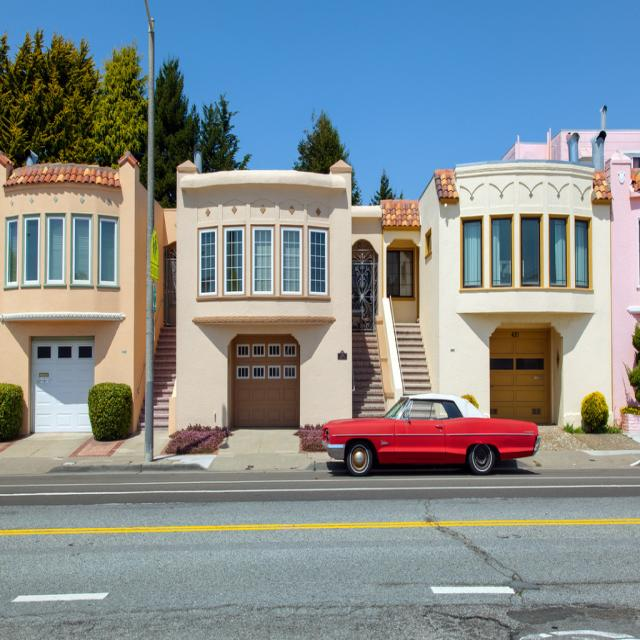car: (321, 392, 543, 470)
